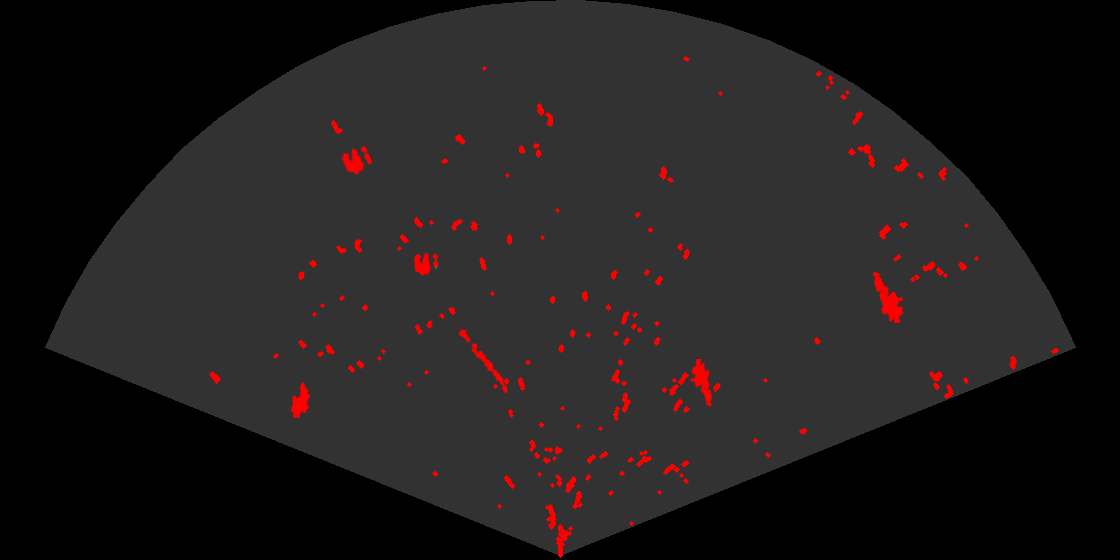AUV: (289, 380, 312, 421)
ball: (340, 144, 374, 176), (412, 251, 440, 277)
chain: (452, 317, 510, 395)
frogman: (871, 269, 905, 323), (688, 359, 714, 407)
